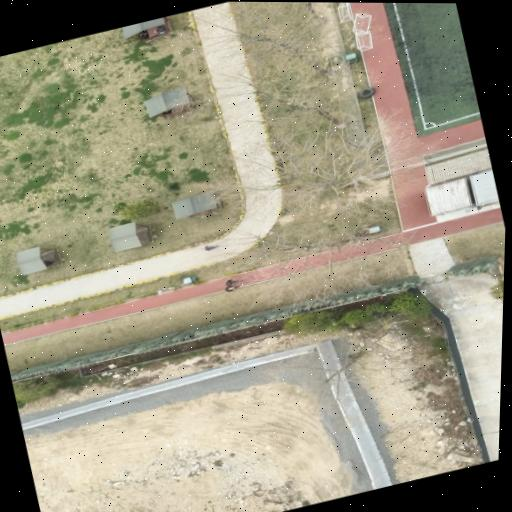person: (154, 24, 166, 33), (138, 30, 149, 39), (225, 285, 240, 291), (226, 279, 240, 285), (161, 108, 173, 114), (204, 245, 218, 250)
